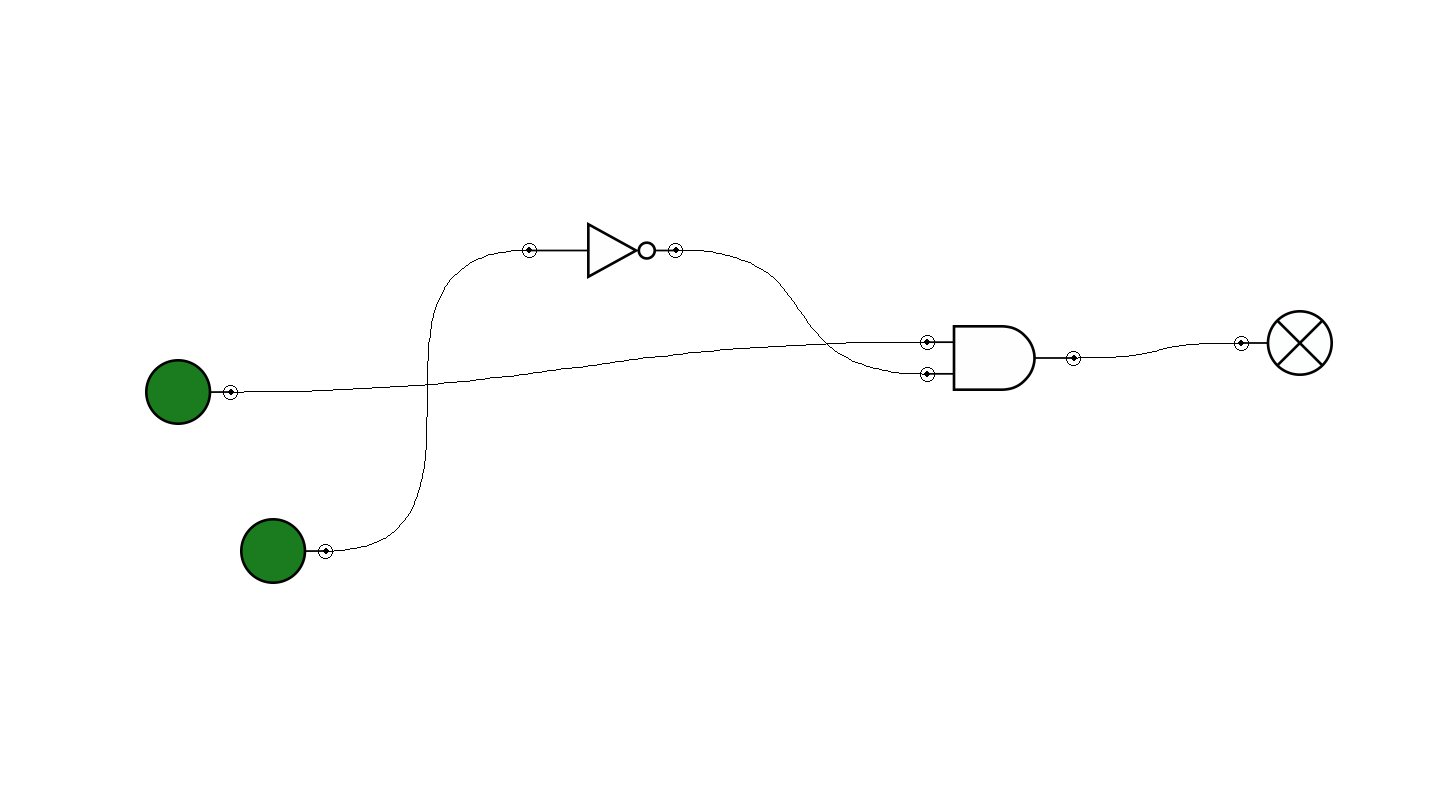and: (920, 325, 1081, 391)
bulb: (1234, 310, 1333, 376)
not: (522, 222, 683, 279)
switch_True: (240, 518, 333, 584), (145, 359, 238, 425)
